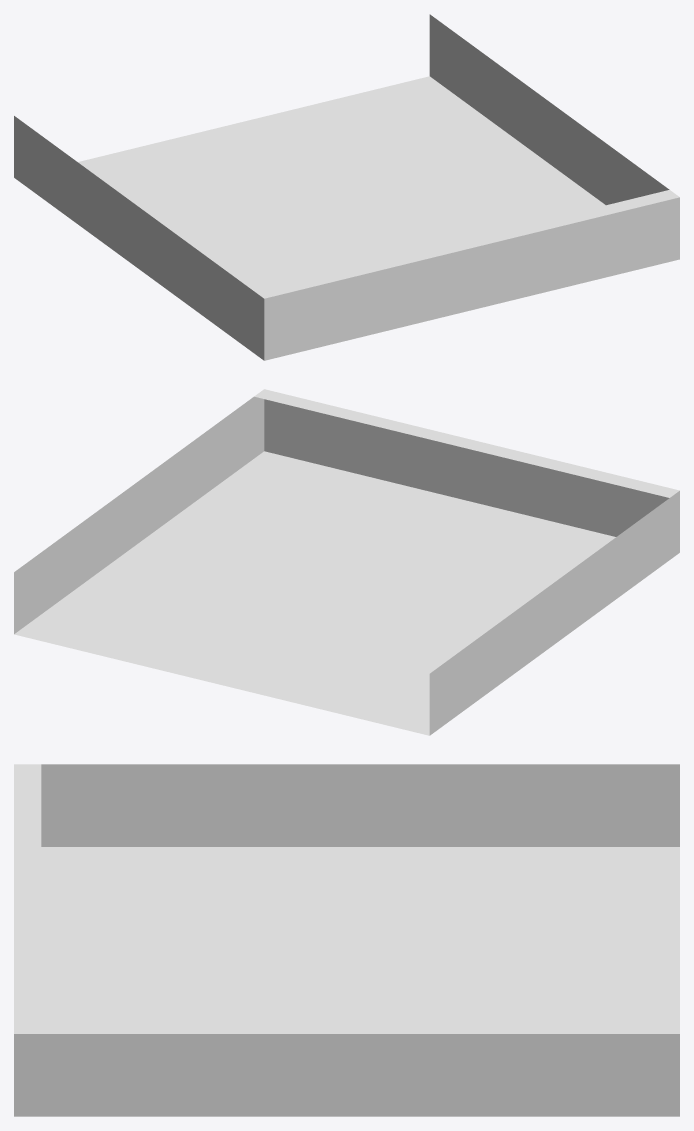
Rendered from M_WallTrim350x350White100-1.FBX.
3 renders of one model, top to bottom at view 1: azimuth 30°, elevation 25°; view 2: azimuth 150°, elevation 25°; view 3: azimuth 270°, elevation 25°, orthographic. The views are drawn at different scales.
Visible parts, largest first — view 1: M_WallTrim350x350White100-1; view 2: M_WallTrim350x350White100-1; view 3: M_WallTrim350x350White100-1.
Part boxes in pixels (left/top/right/bottom): M_WallTrim350x350White100-1: left=14, top=14, right=679, bottom=360; M_WallTrim350x350White100-1: left=14, top=389, right=679, bottom=735; M_WallTrim350x350White100-1: left=14, top=764, right=679, bottom=1116.
Size of the model in its own units: 3.5 by 0.5 by 3.65.
